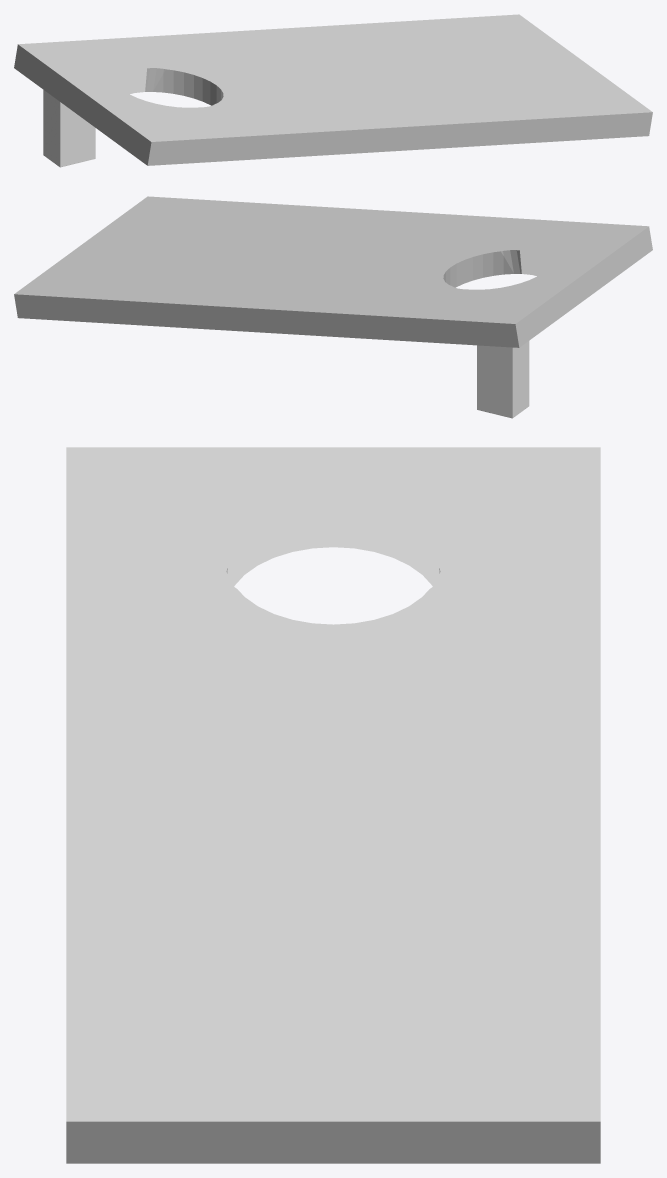
The model's file is cornholev2.glb.
3 views of the same model, one above another, from view 1: azimuth 30°, elevation 25°; view 2: azimuth 150°, elevation 25°; view 3: azimuth 270°, elevation 25° (orthographic). The views are drawn at different scales.
Visible parts, largest first — view 1: Cube, Cube.001; view 2: Cube, Cube.001; view 3: Cube.
Part boxes in pixels (x1=…): Cube: x1=14, y1=14, x2=652, y2=165; Cube.001: x1=43, y1=90, x2=95, y2=167; Cube: x1=14, y1=196, x2=652, y2=347; Cube.001: x1=477, y1=341, x2=529, y2=418; Cube: x1=66, y1=447, x2=600, y2=1163.
Bounding box in the file's own units: 10.92 × 2.38 × 5.
2 materials, 1 textured.
